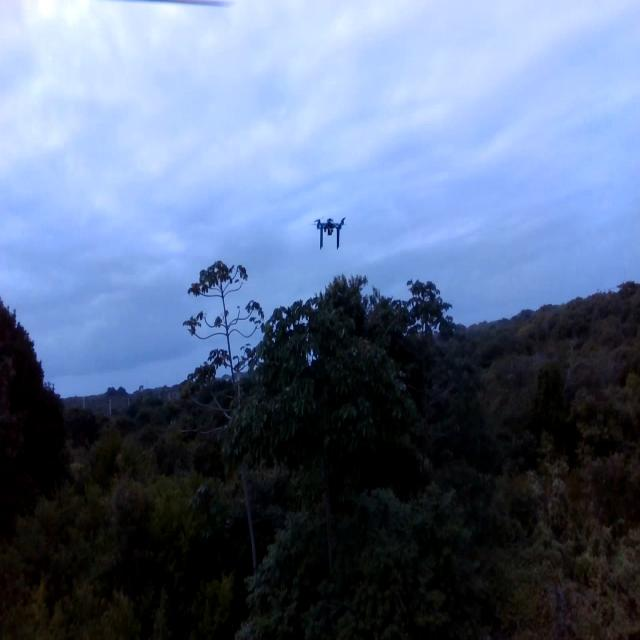-uav-: (308, 206, 354, 253)
